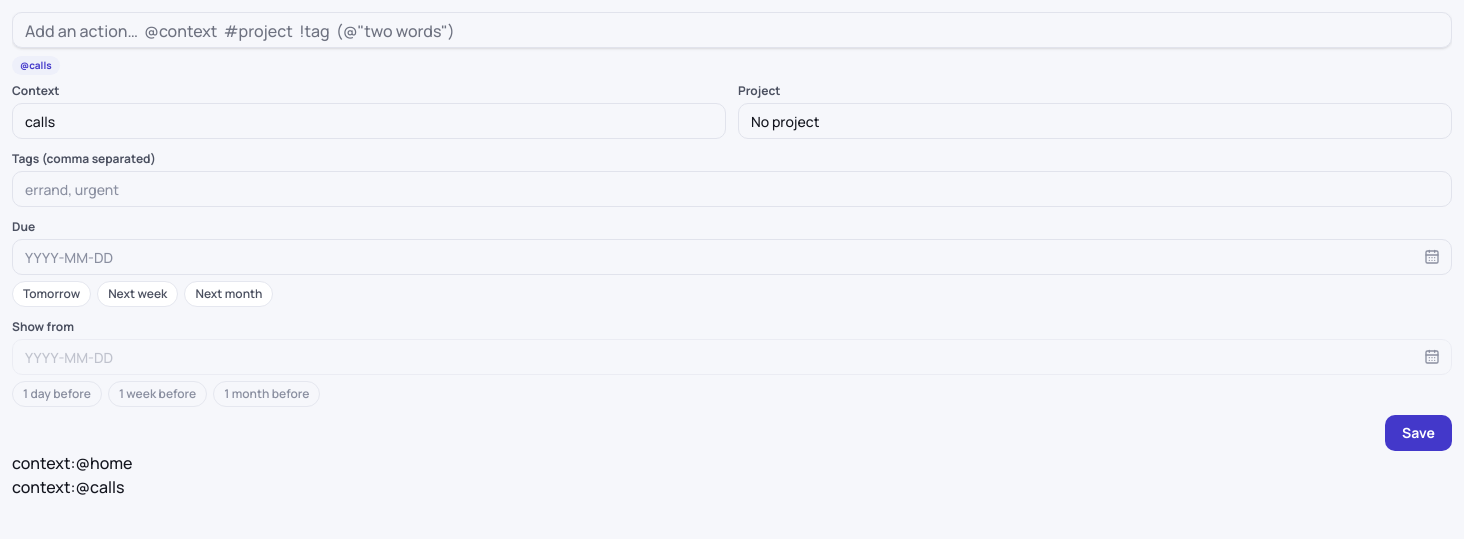
Test case: QuickAdd defaults › defaults to the last used context
Expected: the list item "context:@home" is shown, [12,452,132,474]
Click the field named "Add an action": (732, 30) [13,13,1451,47]
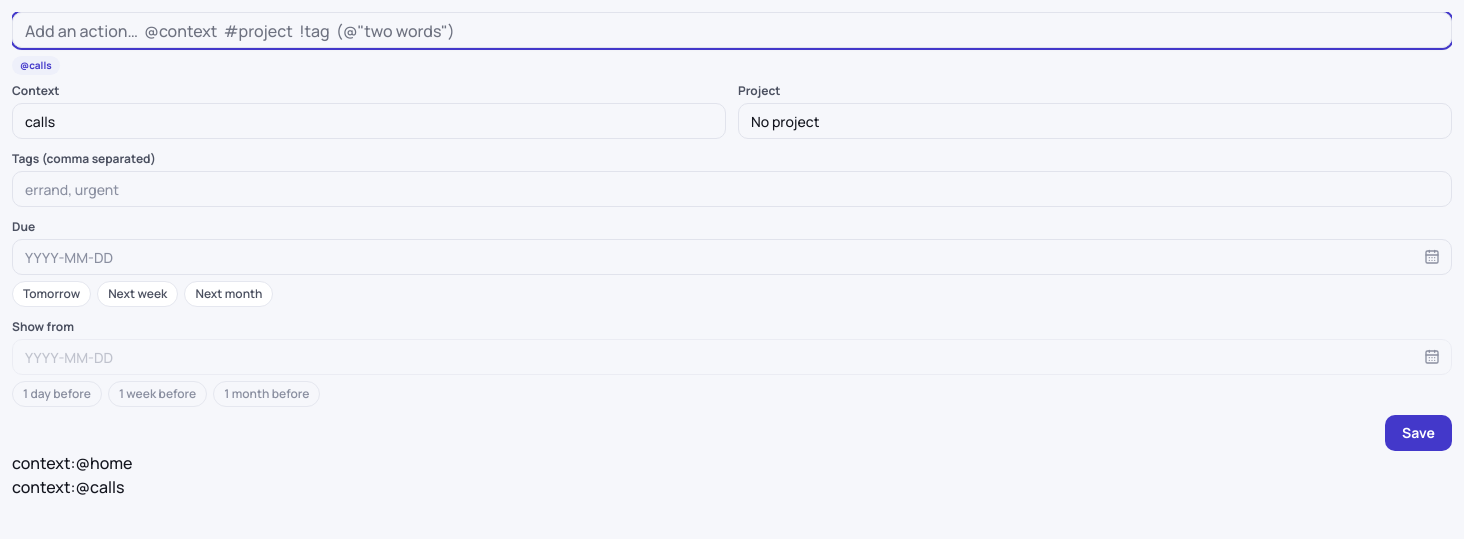
Type keys "ring the bank{Enter}"
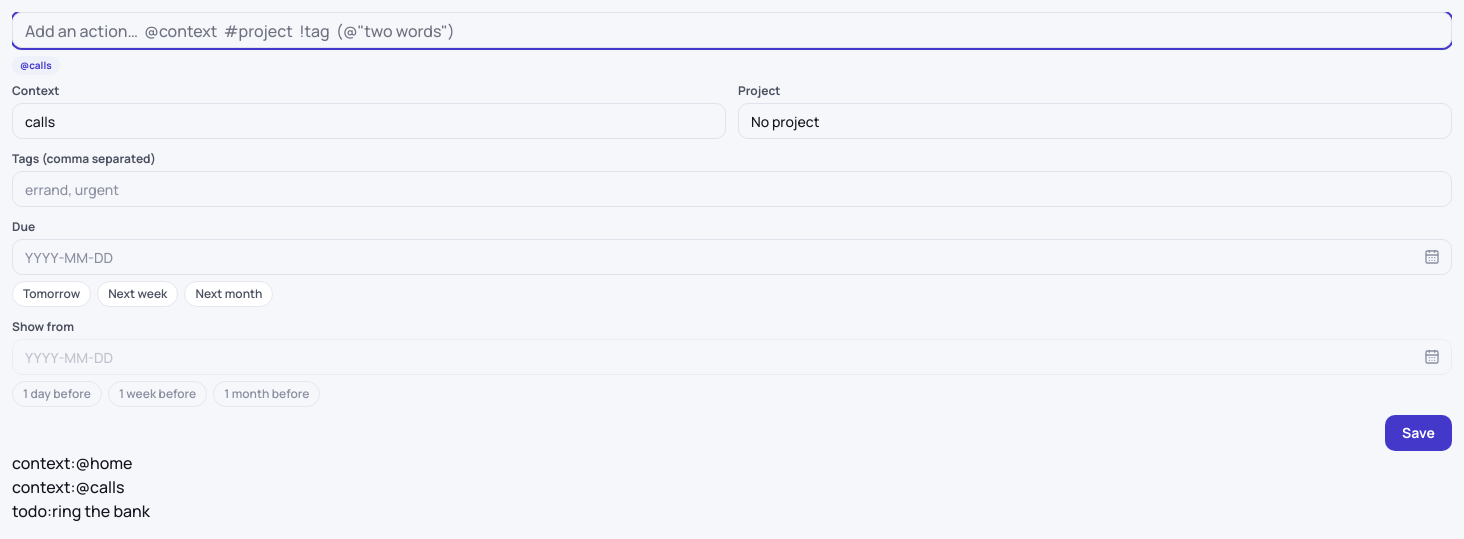
Now the list item "todo:ring the bank" is shown, box [12,500,150,522]
